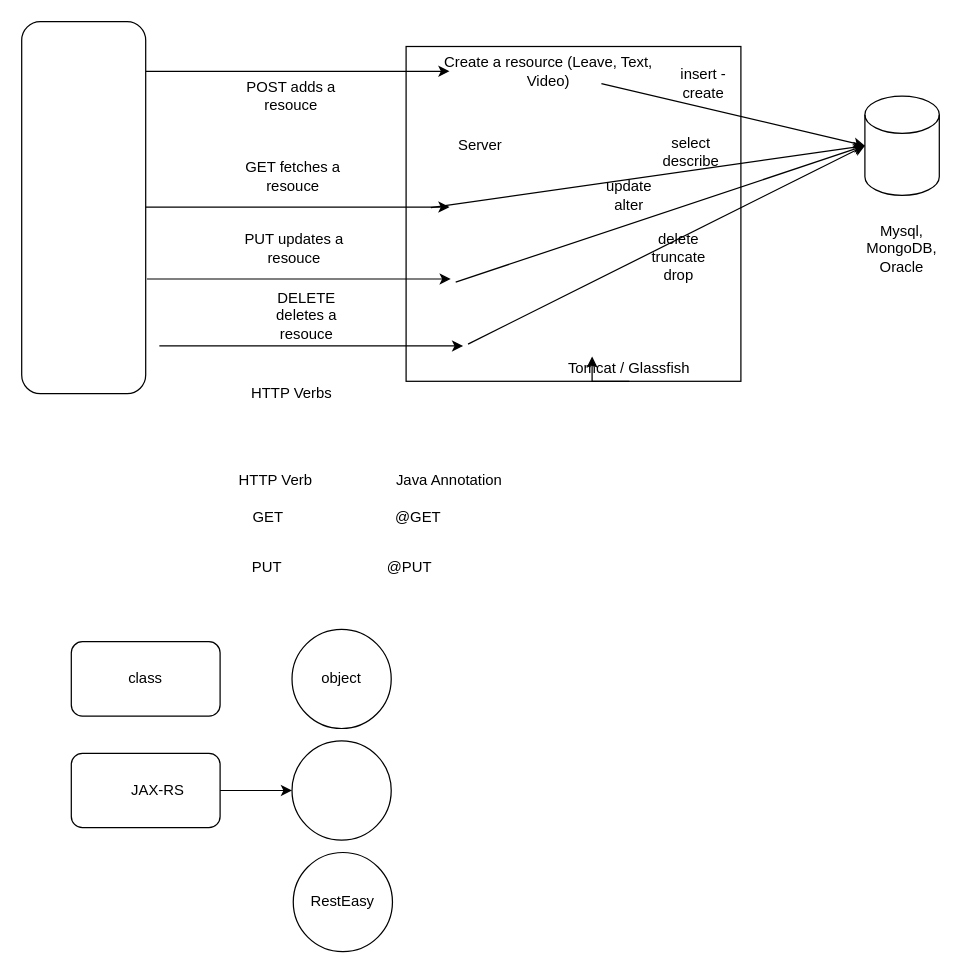
Some shapes in this 961 by 973 pixel diagram are drawn without their labels. The centre of each missing label's shape, as x and y in pixels:
Browser: (x=83, y=207)
Jersey: (x=341, y=790)
